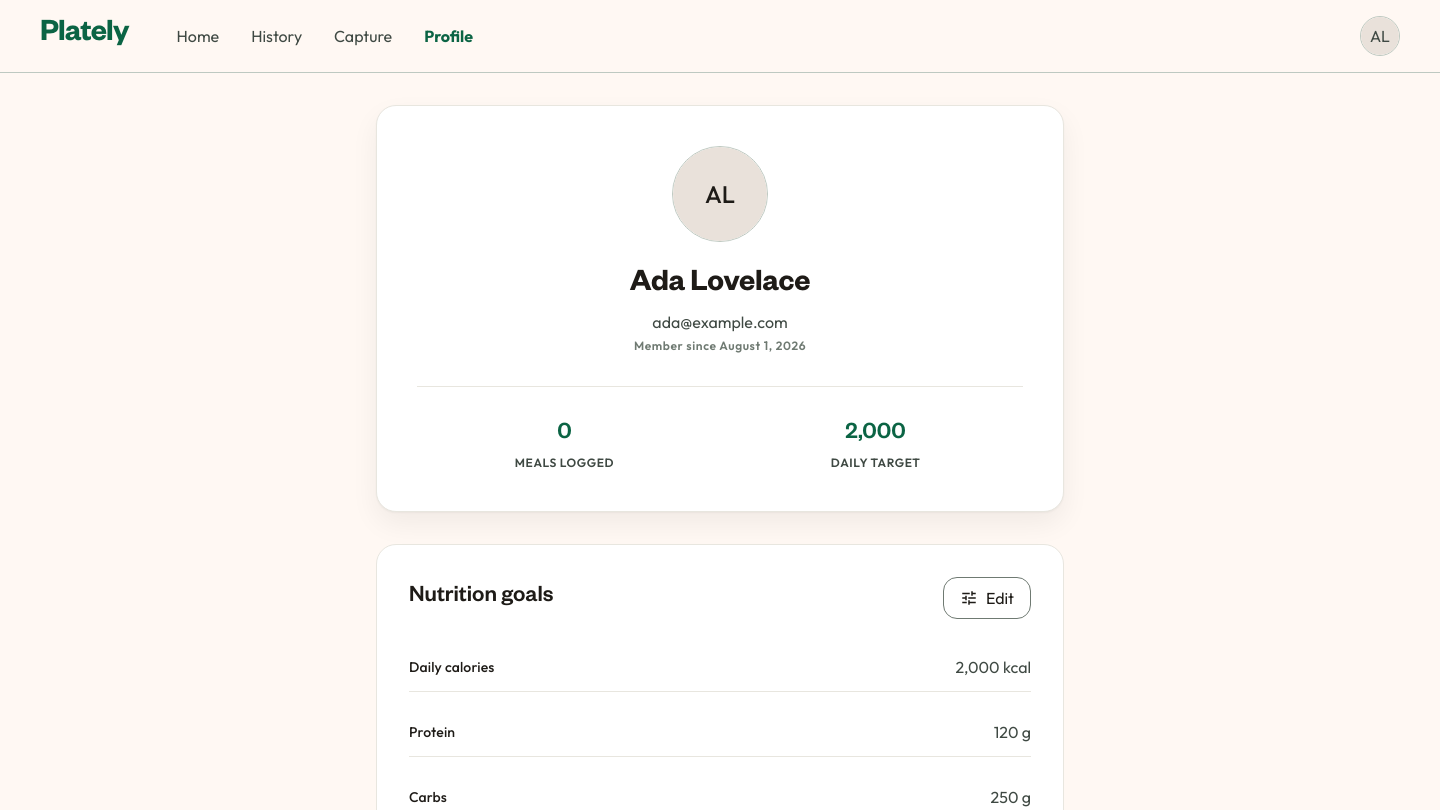
Test: Profile › keeps the editor open and explains a failed save
Click the button "Edit" at (987, 598), box [943,577,1031,619]
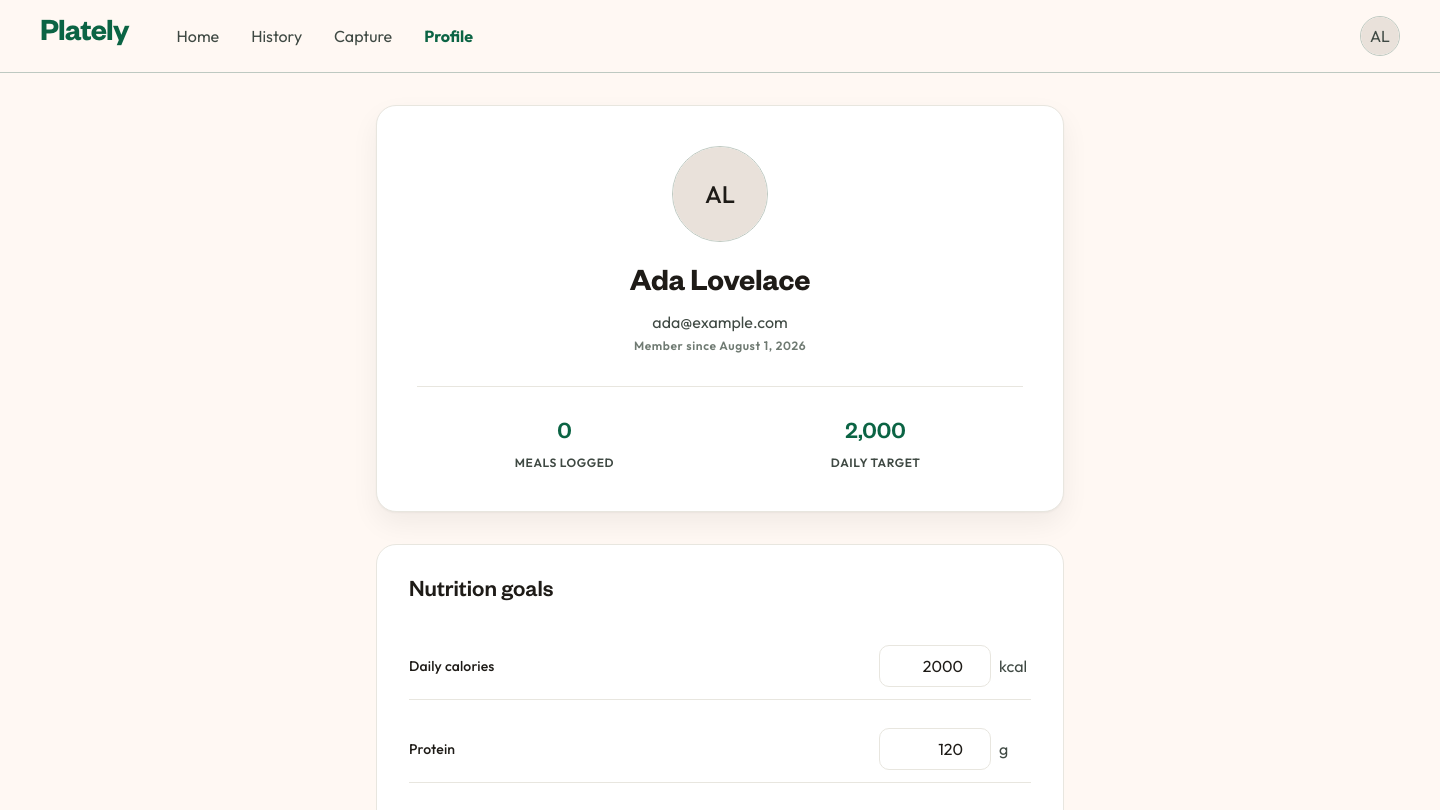
Replace the text in the number field next to "kcal" with "0" at (935, 666), box [879,645,991,687]
(page scrolled)
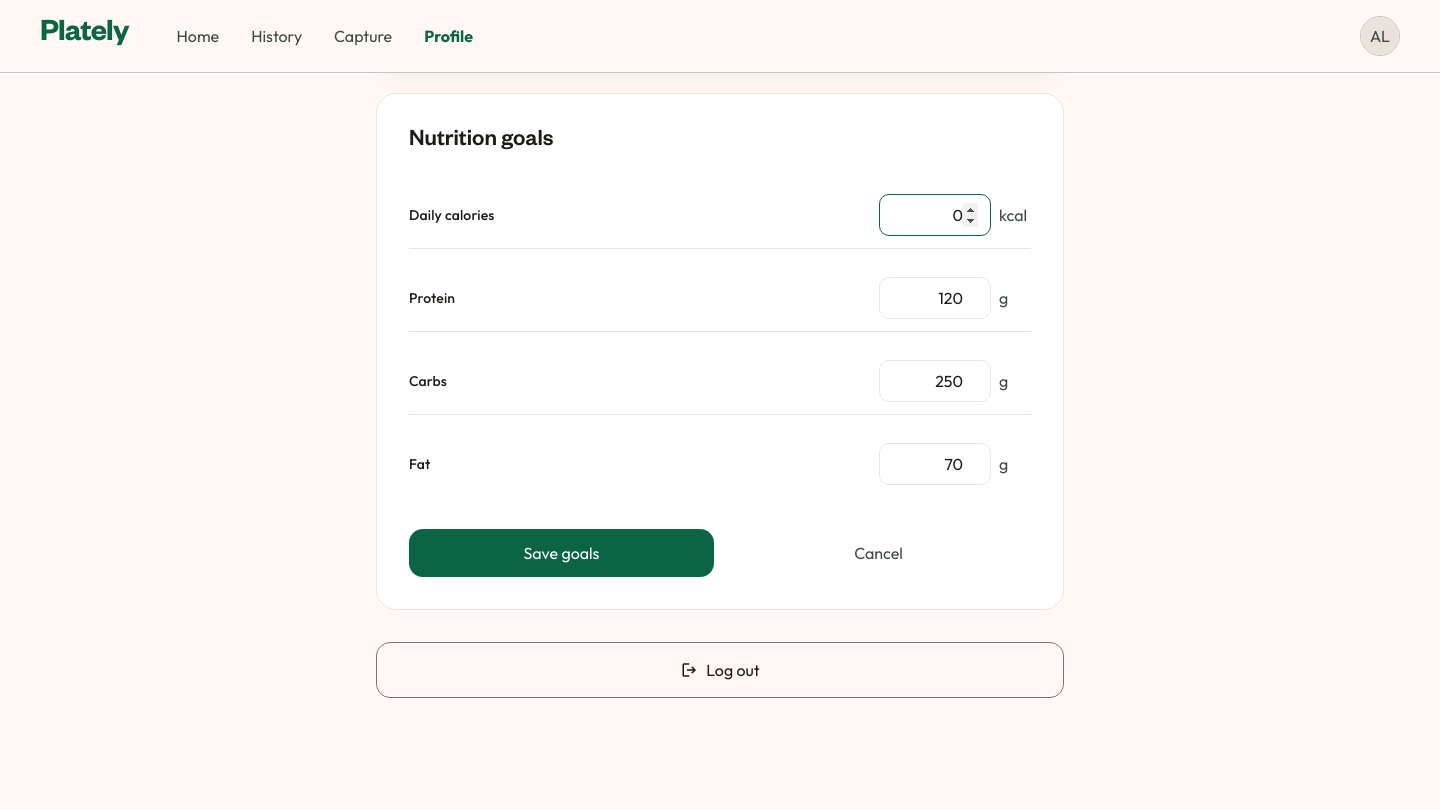
Click the button "Save goals" at (562, 553), box [409,529,714,577]
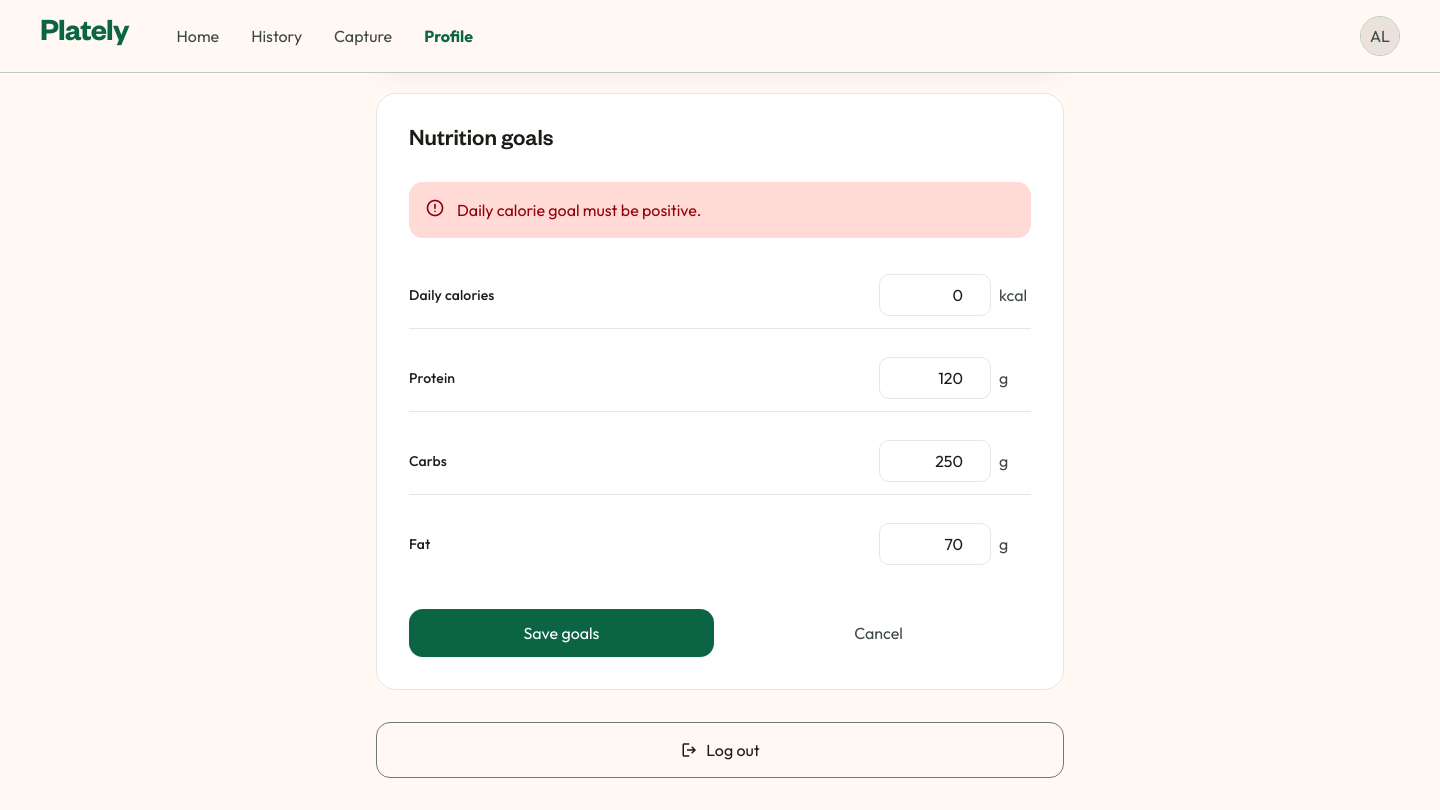
Now the button "Save goals" is enabled, box [409,609,714,657]
Now the message reads "Daily calorie goal must be positive.", box [457,200,701,220]
